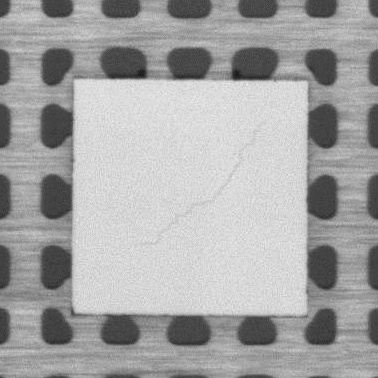DIE_CRACK: (144, 119, 270, 247)
